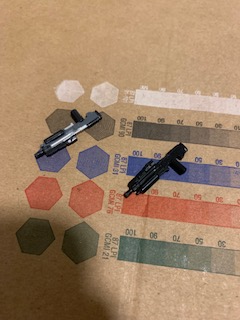rifle: (120, 142, 190, 205), (31, 107, 103, 162)
